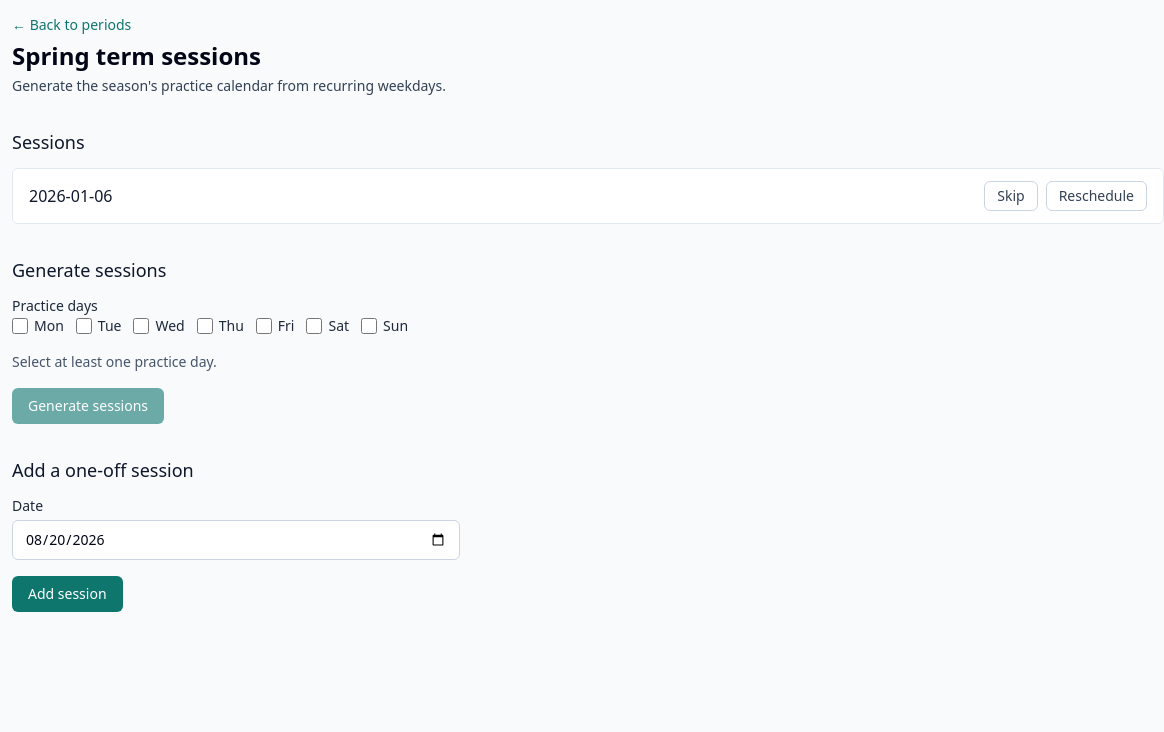
Scenario: SessionsPage › skips a session after confirmation and reloads the list
The width and height of the screenshot is (1164, 732).
What coordinates should you click on to do the following:
click the button "Skip"
I would click on:
 (1011, 196)
Its box is [984,181,1038,211].
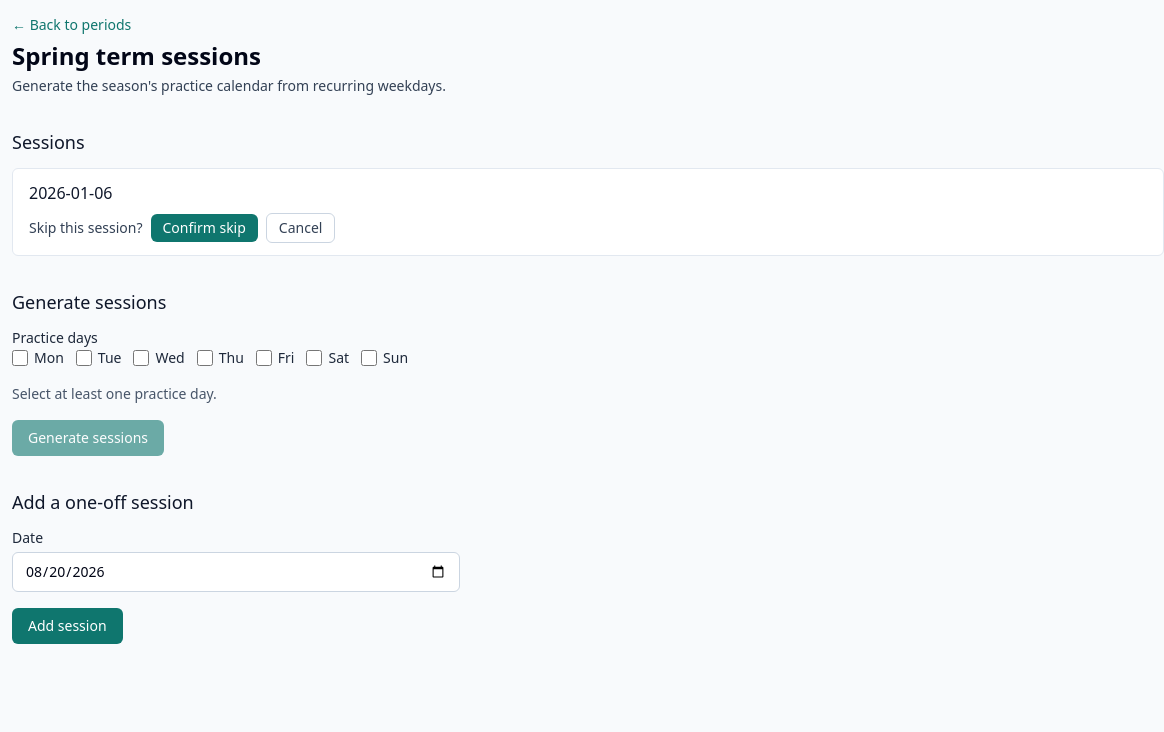
What coordinates should you click on to do the following:
click the button "Confirm skip"
I would click on:
 (204, 228)
Its box is [150,214,258,242].
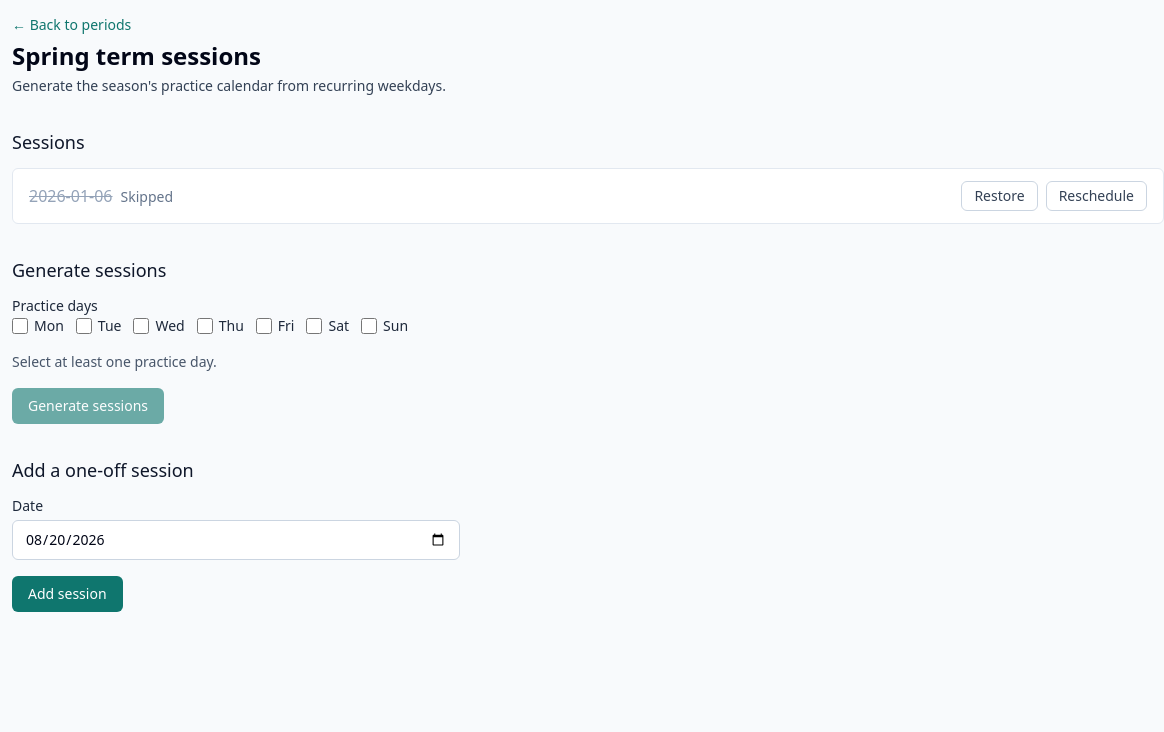
Expected: the text "Skipped" is shown, [120,187,173,206]
